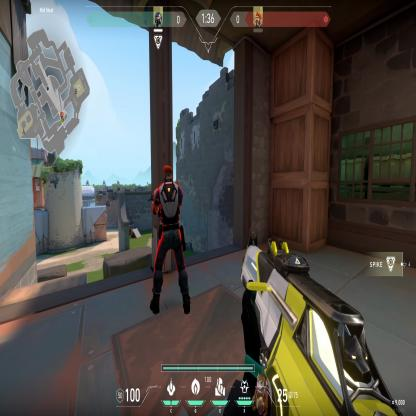enemy: (143, 162, 196, 320)
